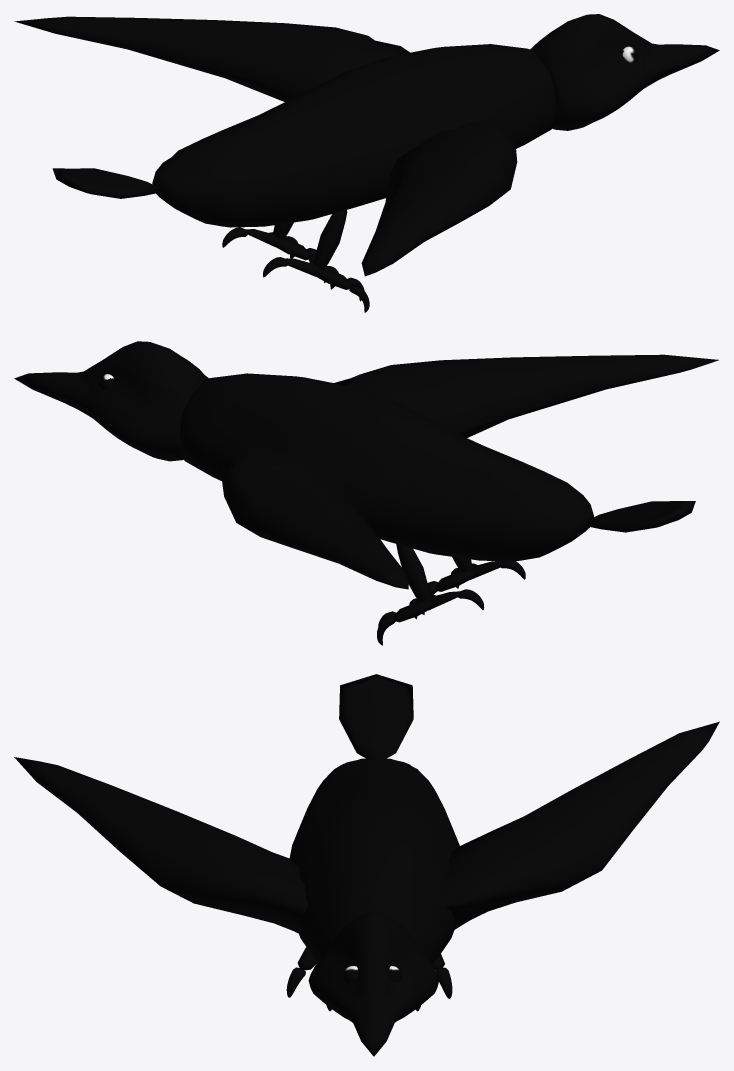
Rendered from Bird.fbx.
3 views of the same model, one above another, from view 1: azimuth 30°, elevation 25°; view 2: azimuth 150°, elevation 25°; view 3: azimuth 270°, elevation 25° (orthographic). The views are drawn at different scales.
Parts seen in each view (by area): view 1: pCube22; view 2: pCube22; view 3: pCube22.
Boxes of the visible parts, x1,y1,x2,y2 form: pCube22: (14,14,719,312); pCube22: (14,341,718,645); pCube22: (14,674,719,1056).
Bounding box in the file's own units: 81.91 × 25.01 × 70.08.
